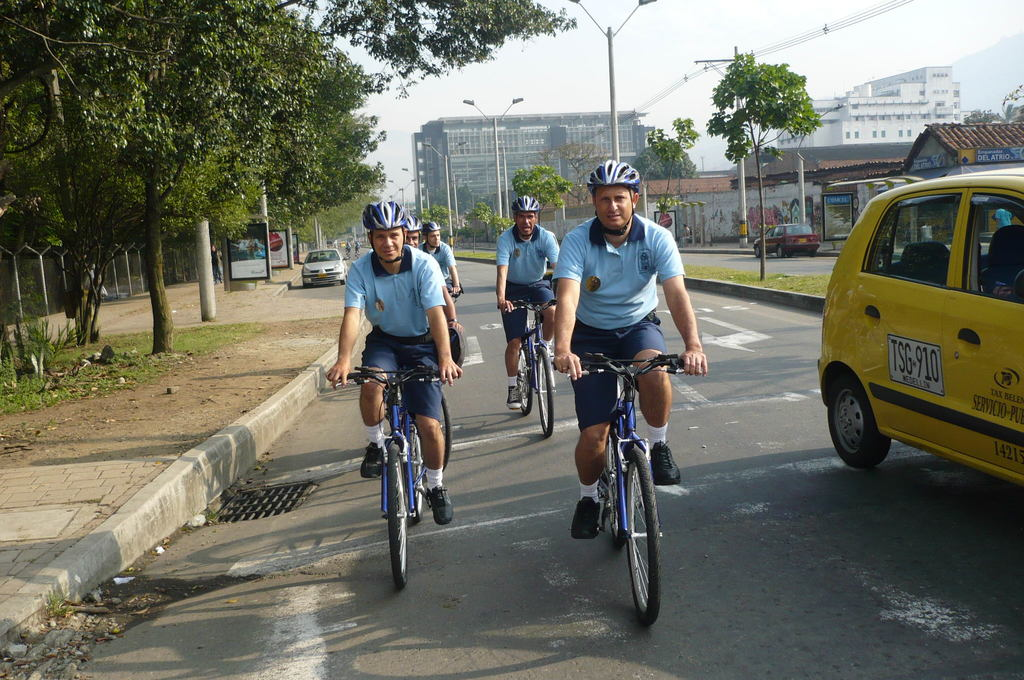Bike_toward: (549, 351, 707, 627), (328, 363, 453, 590), (498, 299, 560, 443)
